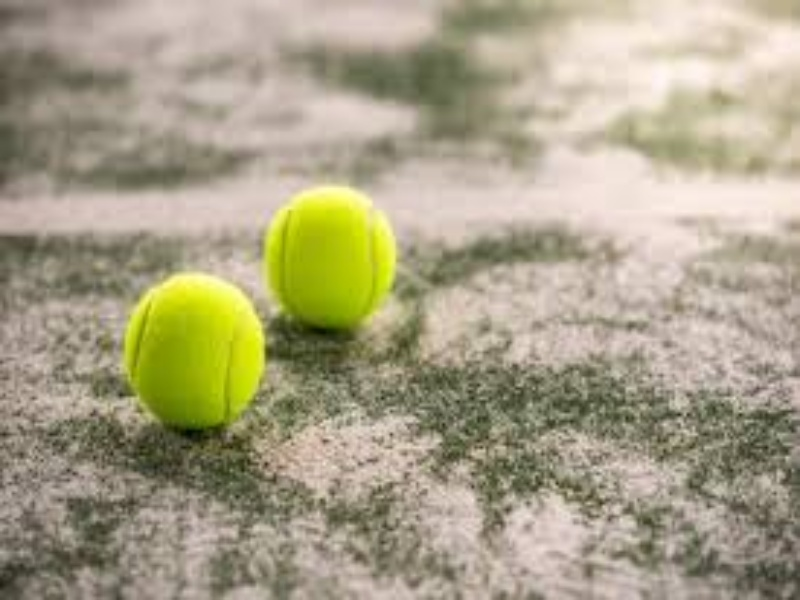tennis ball: (120, 267, 284, 444), (262, 173, 397, 342)
